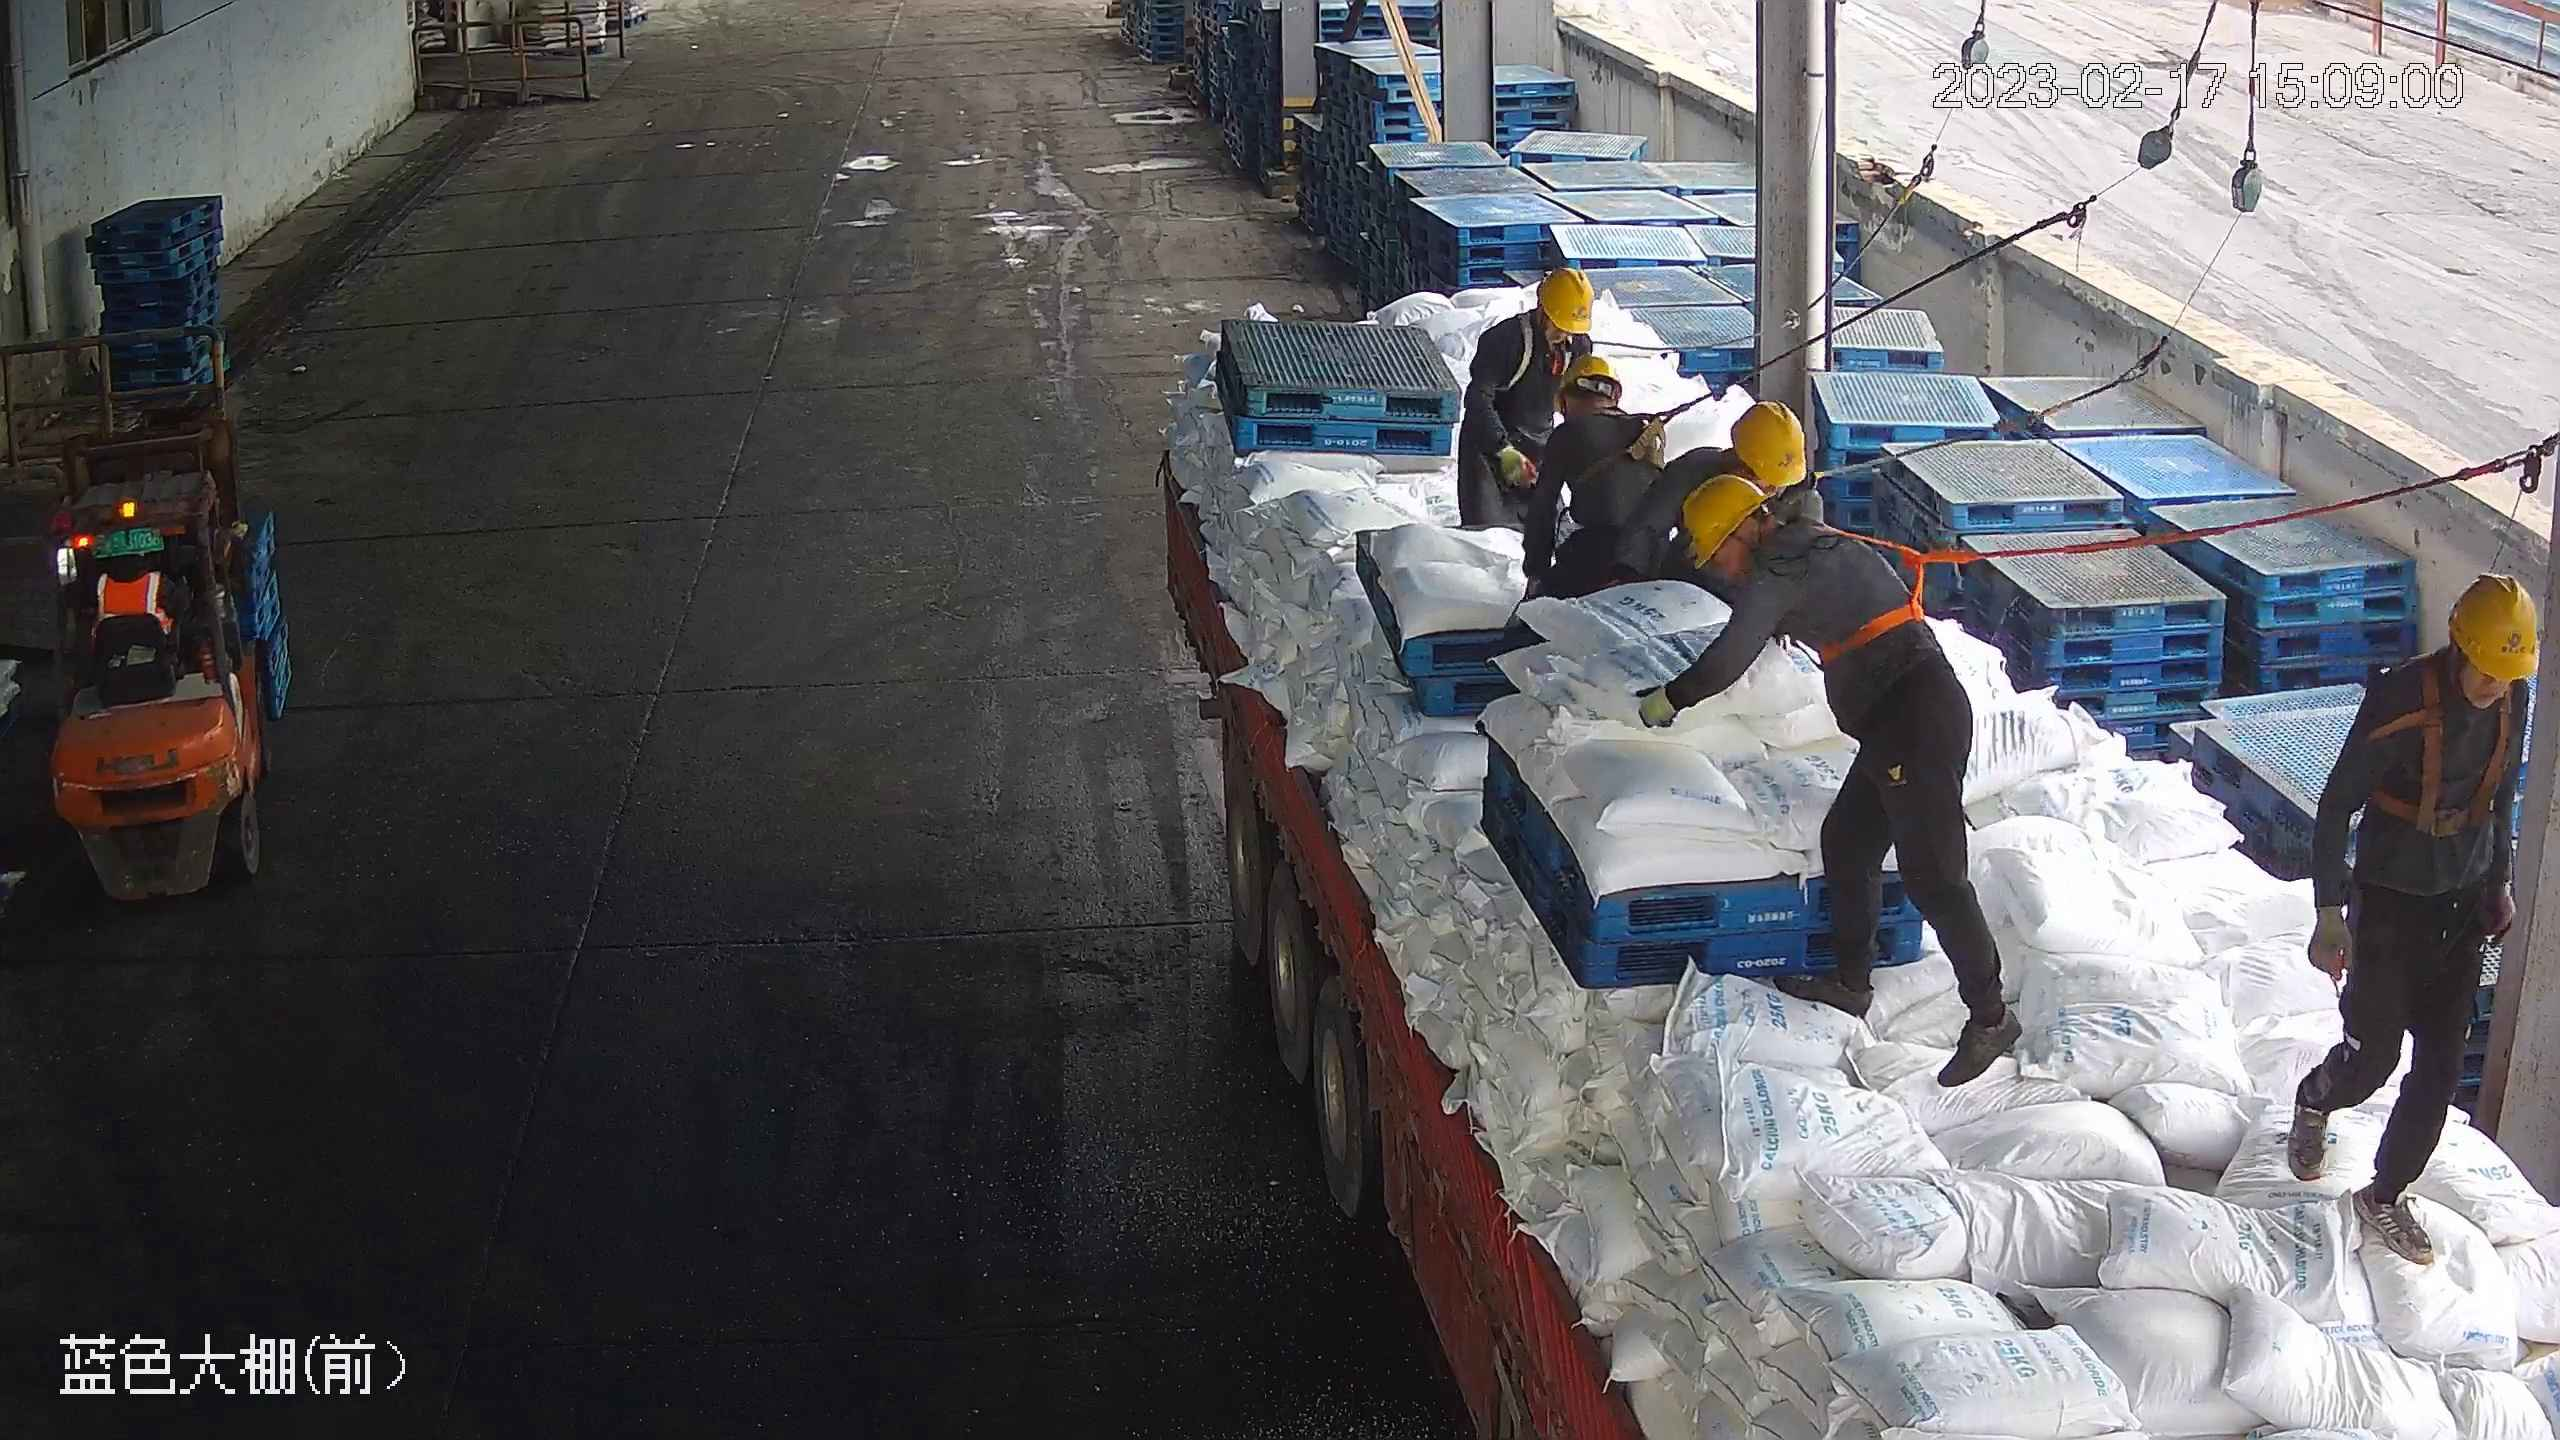belt: (2343, 660, 2528, 842), (1801, 515, 1959, 667), (1596, 387, 1696, 485), (1494, 313, 1574, 406)
head: (2342, 571, 2539, 764), (1686, 476, 1883, 666), (1549, 357, 1662, 480), (1487, 266, 1596, 387)
helmet: (2449, 574, 2541, 682), (1684, 474, 1761, 569), (1730, 400, 1809, 485), (1538, 266, 1594, 340), (1558, 357, 1625, 405)
people: (1632, 476, 2029, 1092), (2288, 566, 2545, 1283), (1512, 356, 1662, 660), (1459, 266, 1594, 532)
truck: (1152, 383, 2560, 1440)
